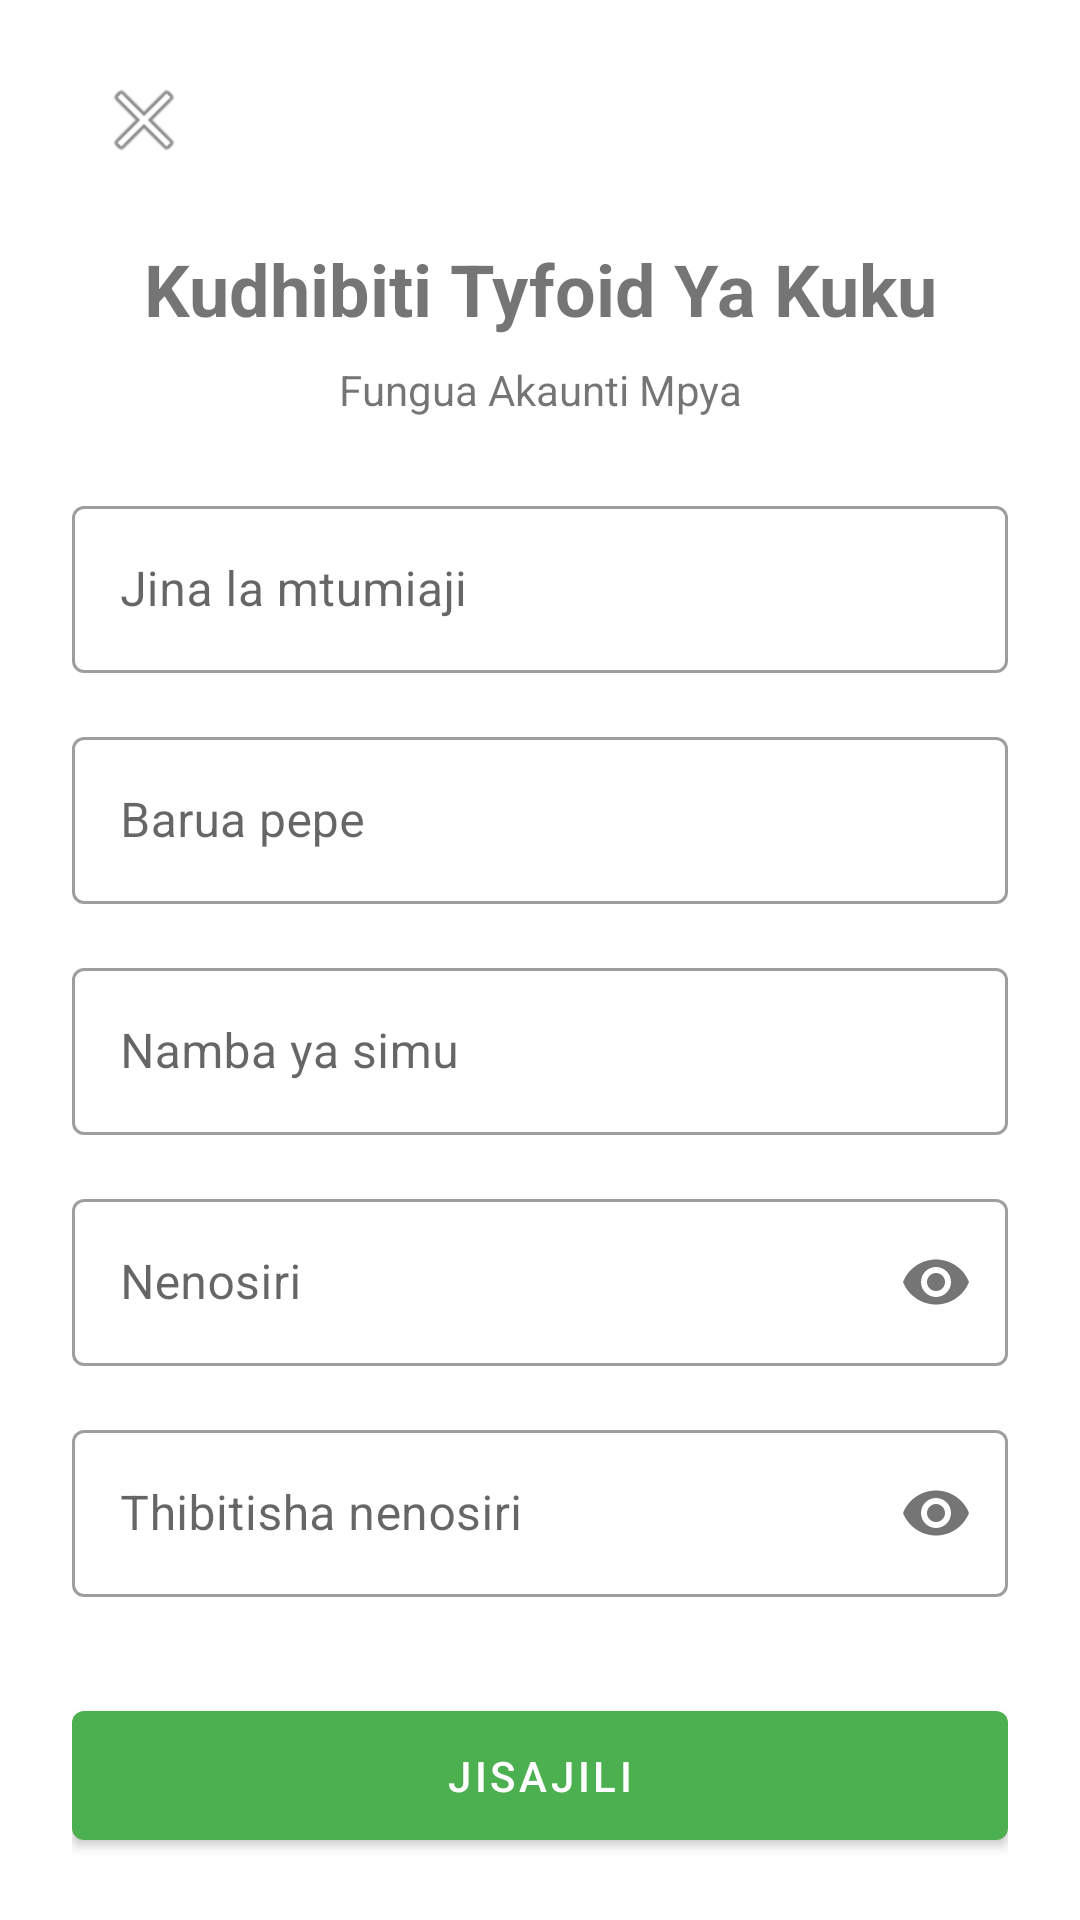

Icons on this 1080w x 1920h Android screen, each with the point to tap as (x,y):
Rudi nyuma: (144,120)
